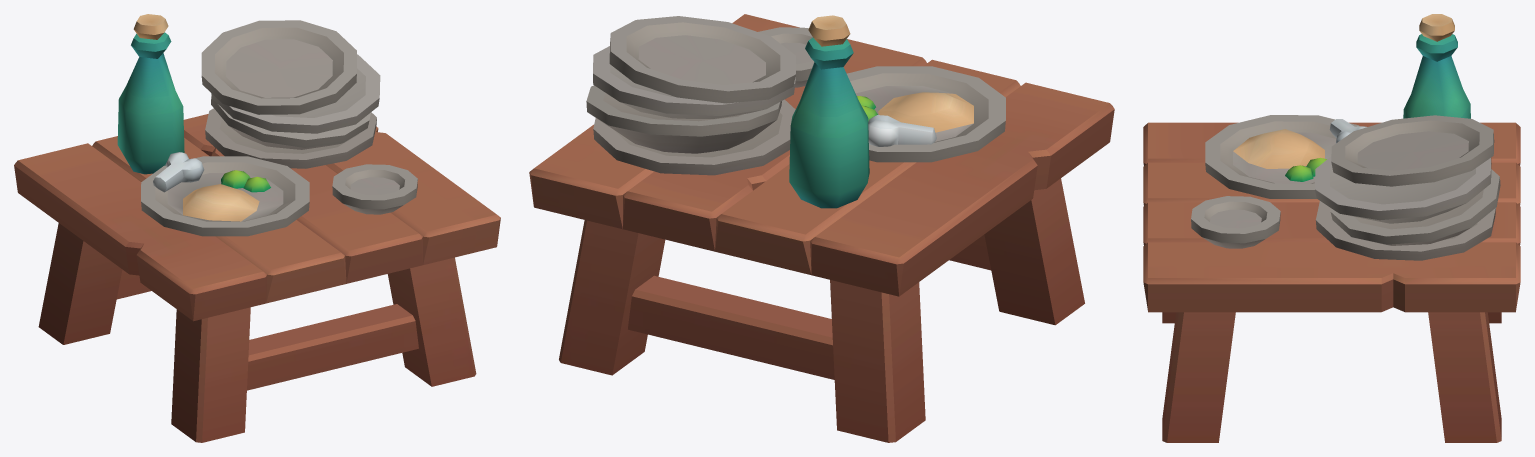
File: table_medium_decorated_A.glb
3 views of the same model, side by side, from view 1: azimuth 30°, elevation 25°; view 2: azimuth 150°, elevation 25°; view 3: azimuth 270°, elevation 25° (orthographic). The views are drawn at different scales.
Parts seen in each view (by area): view 1: table_medium_decorated_A; view 2: table_medium_decorated_A; view 3: table_medium_decorated_A.
Boxes of the visible parts, x1,y1,x2,y2 form: table_medium_decorated_A: (14, 14, 500, 442); table_medium_decorated_A: (529, 14, 1114, 442); table_medium_decorated_A: (1143, 14, 1520, 442).
Size of the model in its own units: 2 by 1.89 by 2.
1 material, 1 textured.
